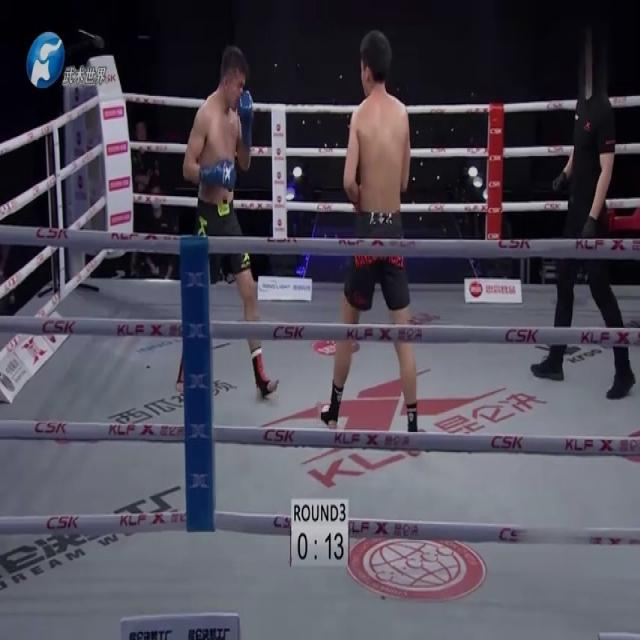fight: (177, 25, 424, 436)
non-fight: (542, 40, 639, 401)
